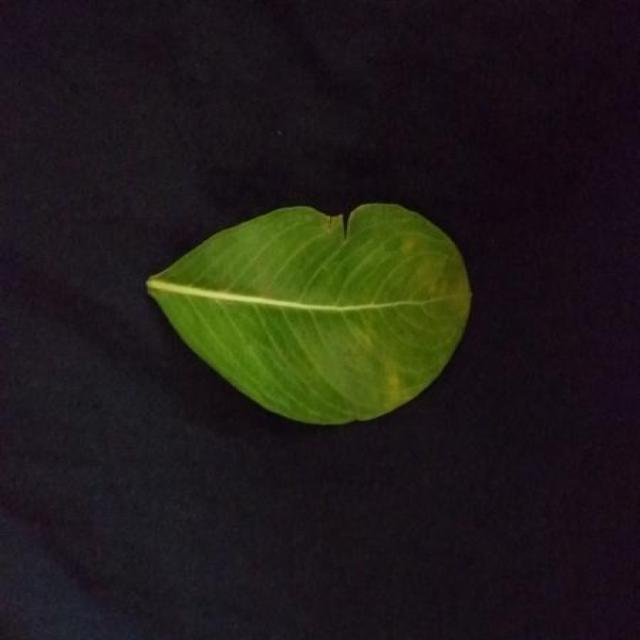catharanthus: (147, 204, 470, 423)
defectedcatharanthus: (225, 204, 453, 262)
